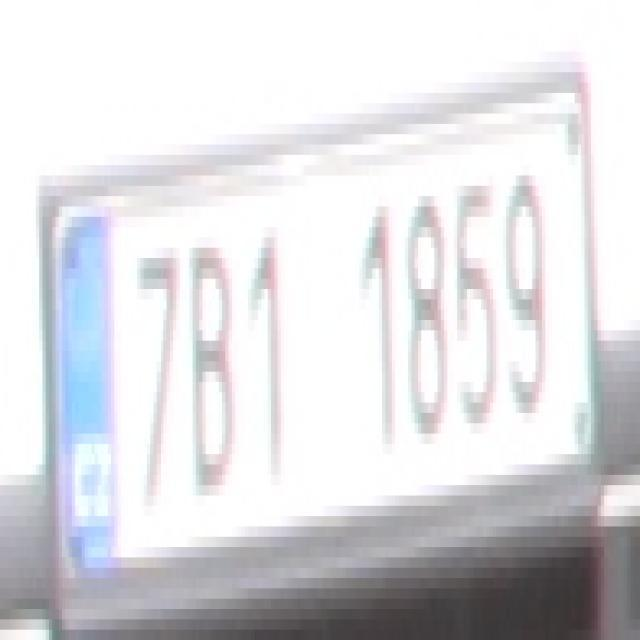1: (245, 206, 288, 475), (356, 196, 398, 454)
5: (457, 165, 493, 423)
7: (130, 227, 180, 496)
8: (398, 175, 448, 434)
9: (503, 155, 552, 413)
B: (190, 227, 234, 485)
